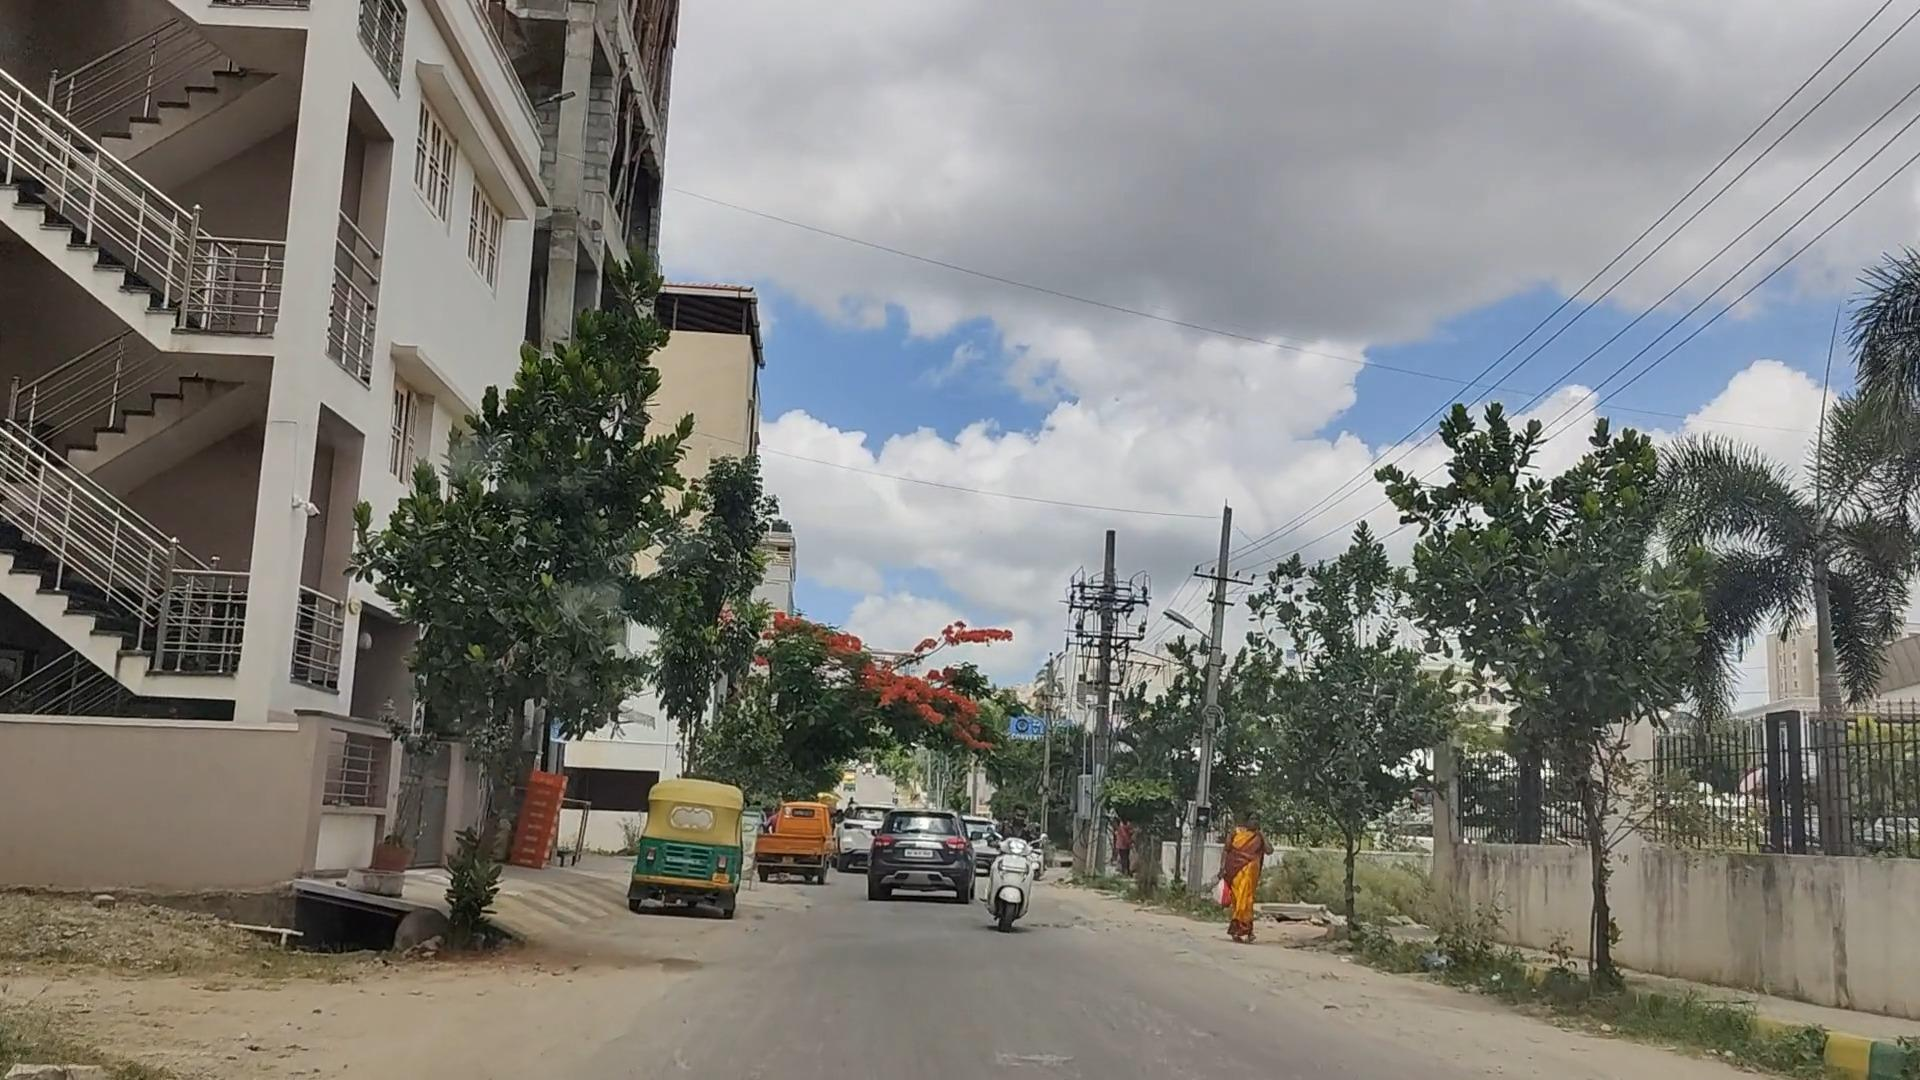RoadDamages: (1052, 900, 1185, 961)
